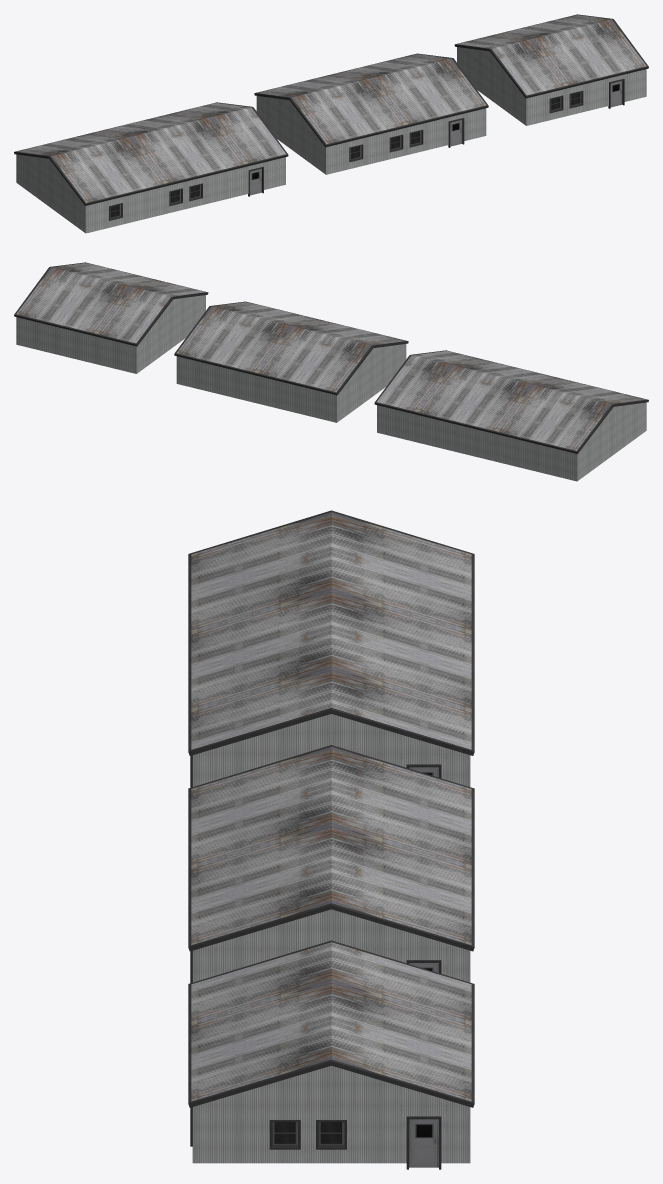
The picture shows the model from 3 angles, top to bottom: view 1: azimuth 30°, elevation 25°; view 2: azimuth 150°, elevation 25°; view 3: azimuth 270°, elevation 25°; orthographic projection. The views are drawn at different scales.
Visible parts, largest first — view 1: wh-l10; view 2: wh-l10; view 3: wh-l10.
Boxes of the visible parts, box(x1,y1,x2,y2) form: wh-l10: box(14, 14, 648, 233); wh-l10: box(14, 262, 648, 481); wh-l10: box(188, 510, 474, 1169).
Bounding box in the file's own units: 62 × 5.72 × 13.62.
Materials: 5 (5 with a texture image).
